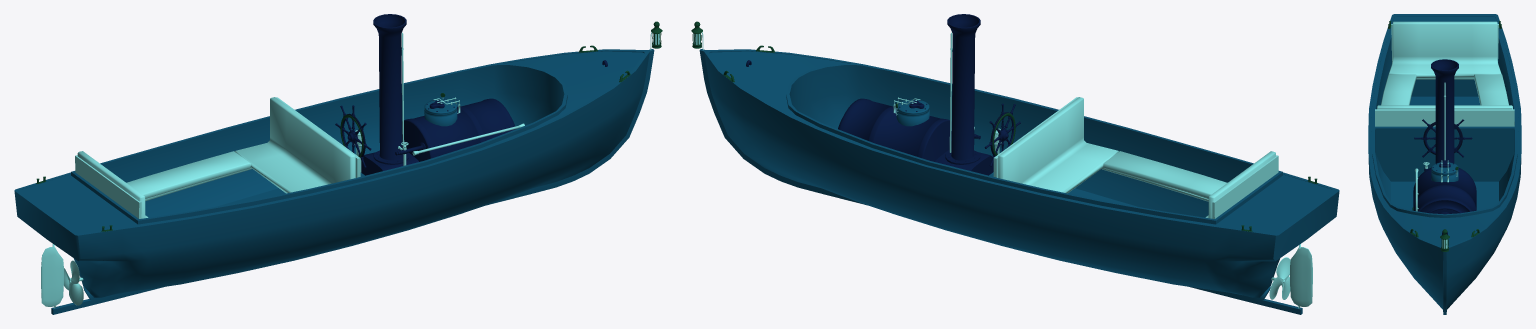
3 renders of one model, left to right at view 1: azimuth 30°, elevation 25°; view 2: azimuth 150°, elevation 25°; view 3: azimuth 270°, elevation 25°, orthographic. The views are drawn at different scales.
Parts seen in each view (by area): view 1: Hull_LOW, Details_LOW, Engine_LOW, Wheel&lantern_LOW; view 2: Hull_LOW, Details_LOW, Engine_LOW, Wheel&lantern_LOW; view 3: Hull_LOW, Details_LOW, Engine_LOW, Wheel&lantern_LOW.
Boxes of the visible parts, x1,y1,x2,y2 form: Hull_LOW: (14,49,654,314); Details_LOW: (41,32,659,308); Engine_LOW: (335,14,607,175); Wheel&lantern_LOW: (36,21,662,231); Hull_LOW: (699,49,1339,314); Details_LOW: (693,32,1312,308); Engine_LOW: (746,14,1020,175); Wheel&lantern_LOW: (691,21,1317,231); Hull_LOW: (1368,14,1521,314); Details_LOW: (1375,21,1514,248); Engine_LOW: (1413,59,1476,234); Wheel&lantern_LOW: (1388,21,1501,251).
Size of the model in its own units: 2 by 0.6497 by 0.5103.
